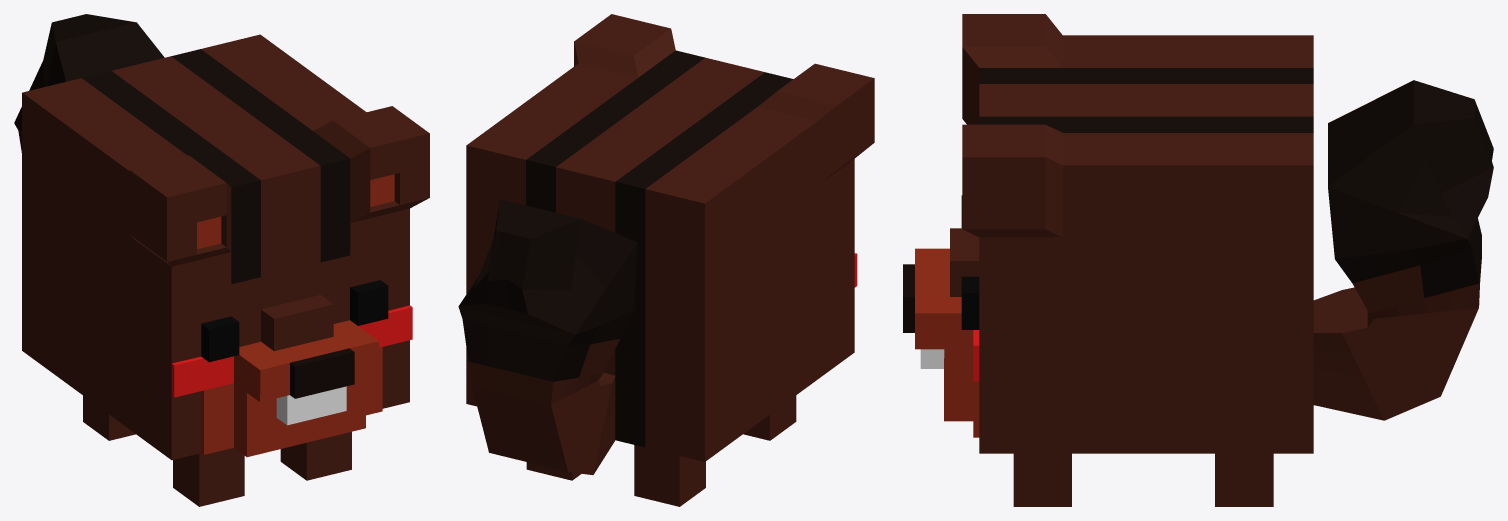
The model's file is Squarle.FBX.
3 views of the same model, side by side, from view 1: azimuth 30°, elevation 25°; view 2: azimuth 150°, elevation 25°; view 3: azimuth 270°, elevation 25° (orthographic). The views are drawn at different scales.
Visible parts, largest first — view 1: Box001, Box005, Box004, Box002; view 2: Box001, Box002, Box005; view 3: Box001, Box003, Box004.
Part boxes in pixels (x1,y1,x2,y2): Box001: (14,14,429,460); Box005: (173,447,244,506); Box004: (280,431,351,480); Box002: (83,395,135,440); Box001: (458,14,874,474); Box002: (634,445,705,506); Box005: (743,395,796,440); Box001: (903,14,1493,453); Box003: (1215,453,1273,506); Box004: (1013,453,1071,506).
Size of the model in its own units: 26.93 by 33.28 by 46.93.
